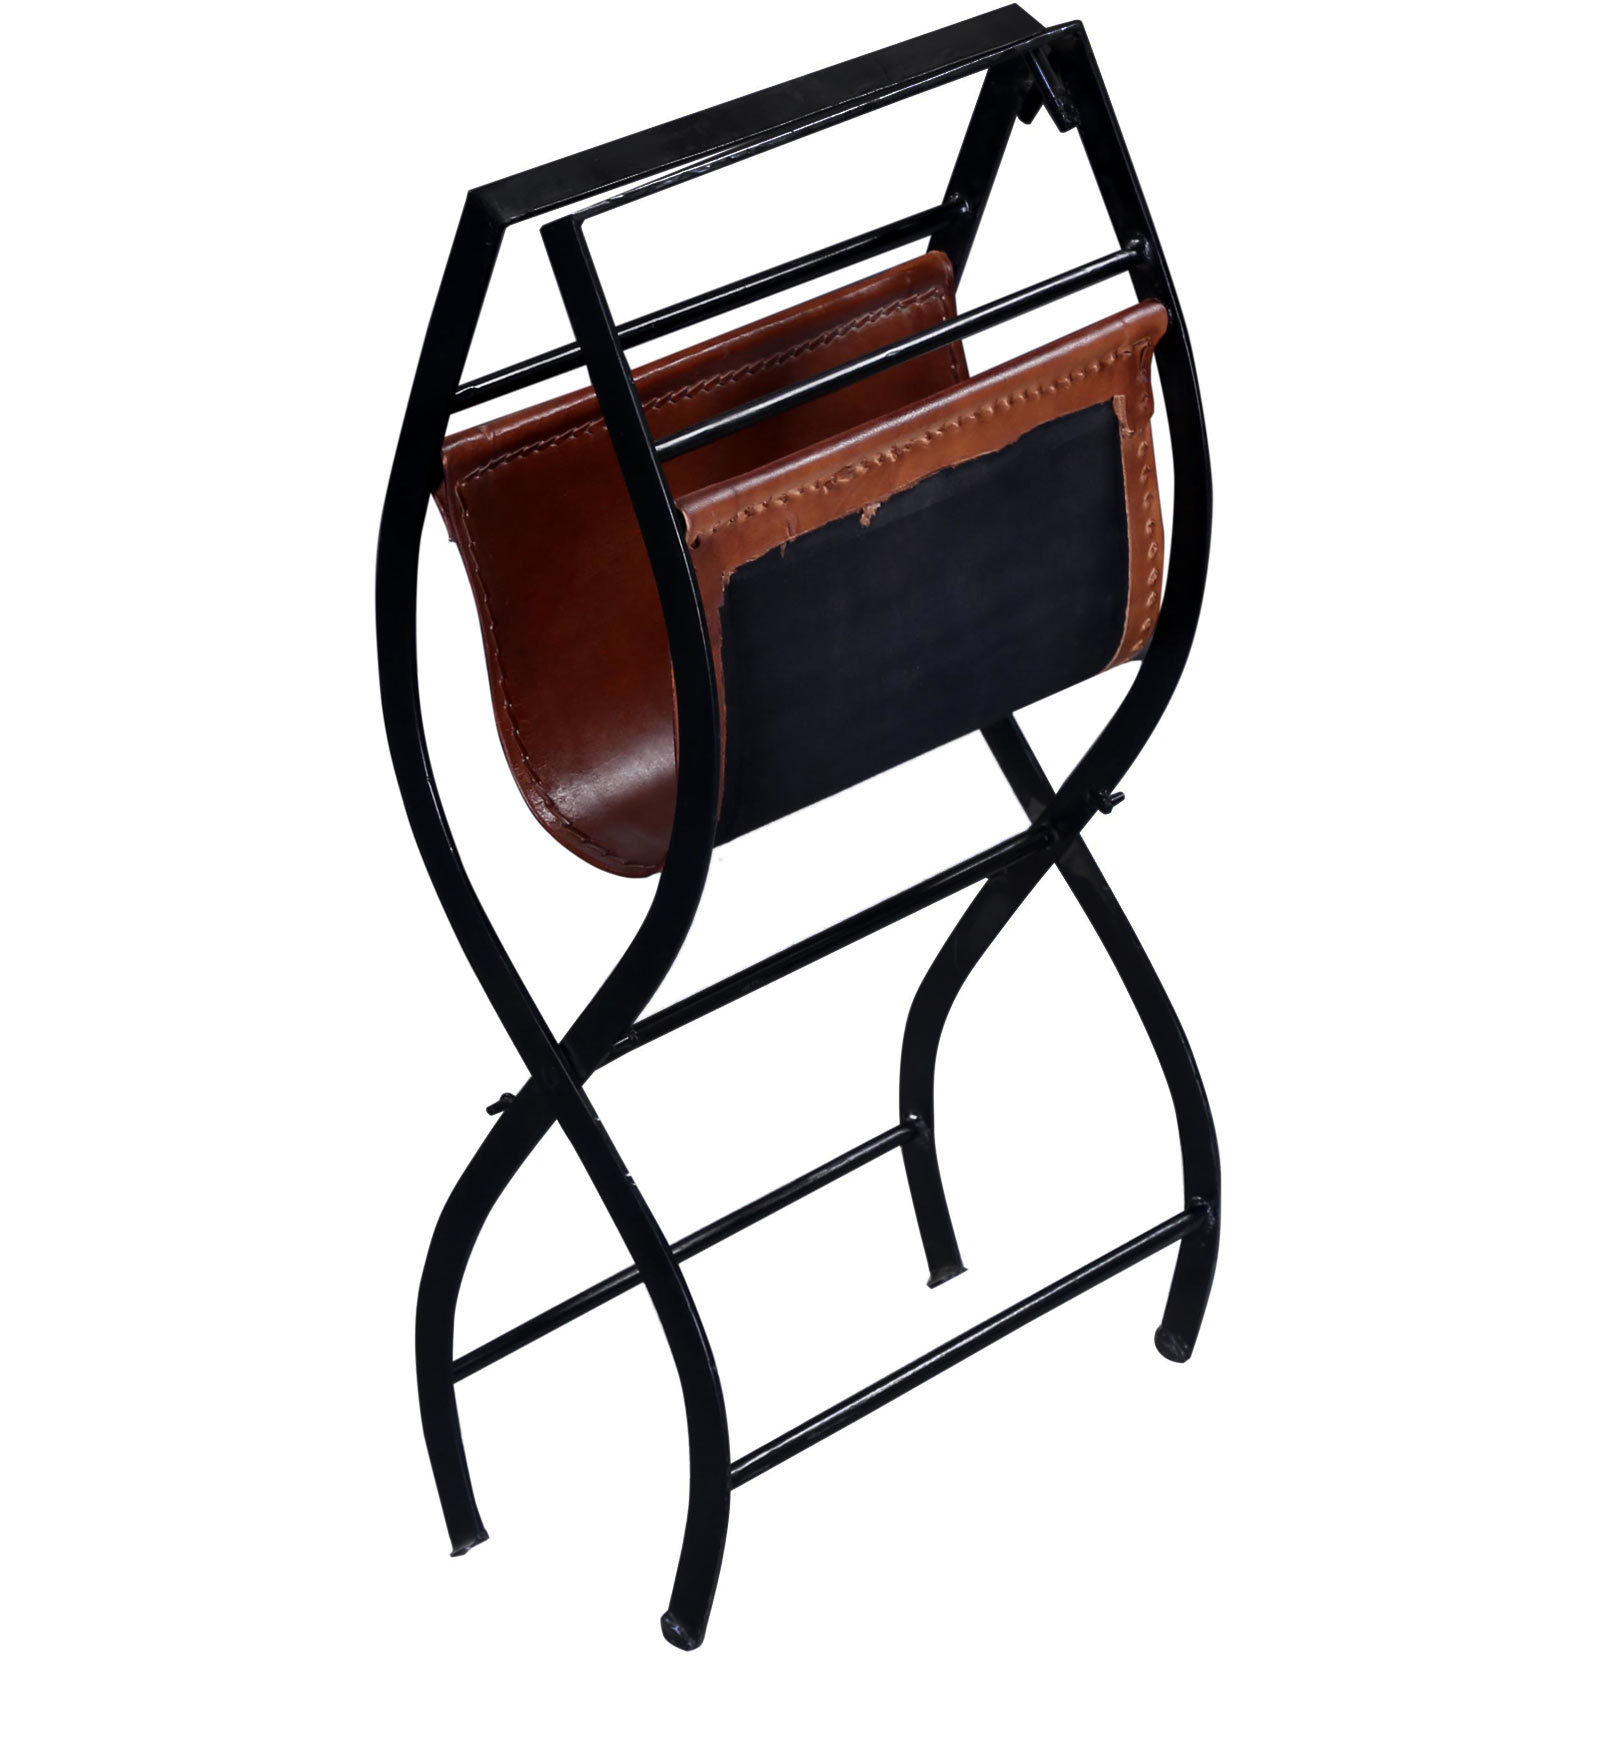Medina Metal & Leather Chair by Bohemiana: (357, 9, 1241, 1657)
